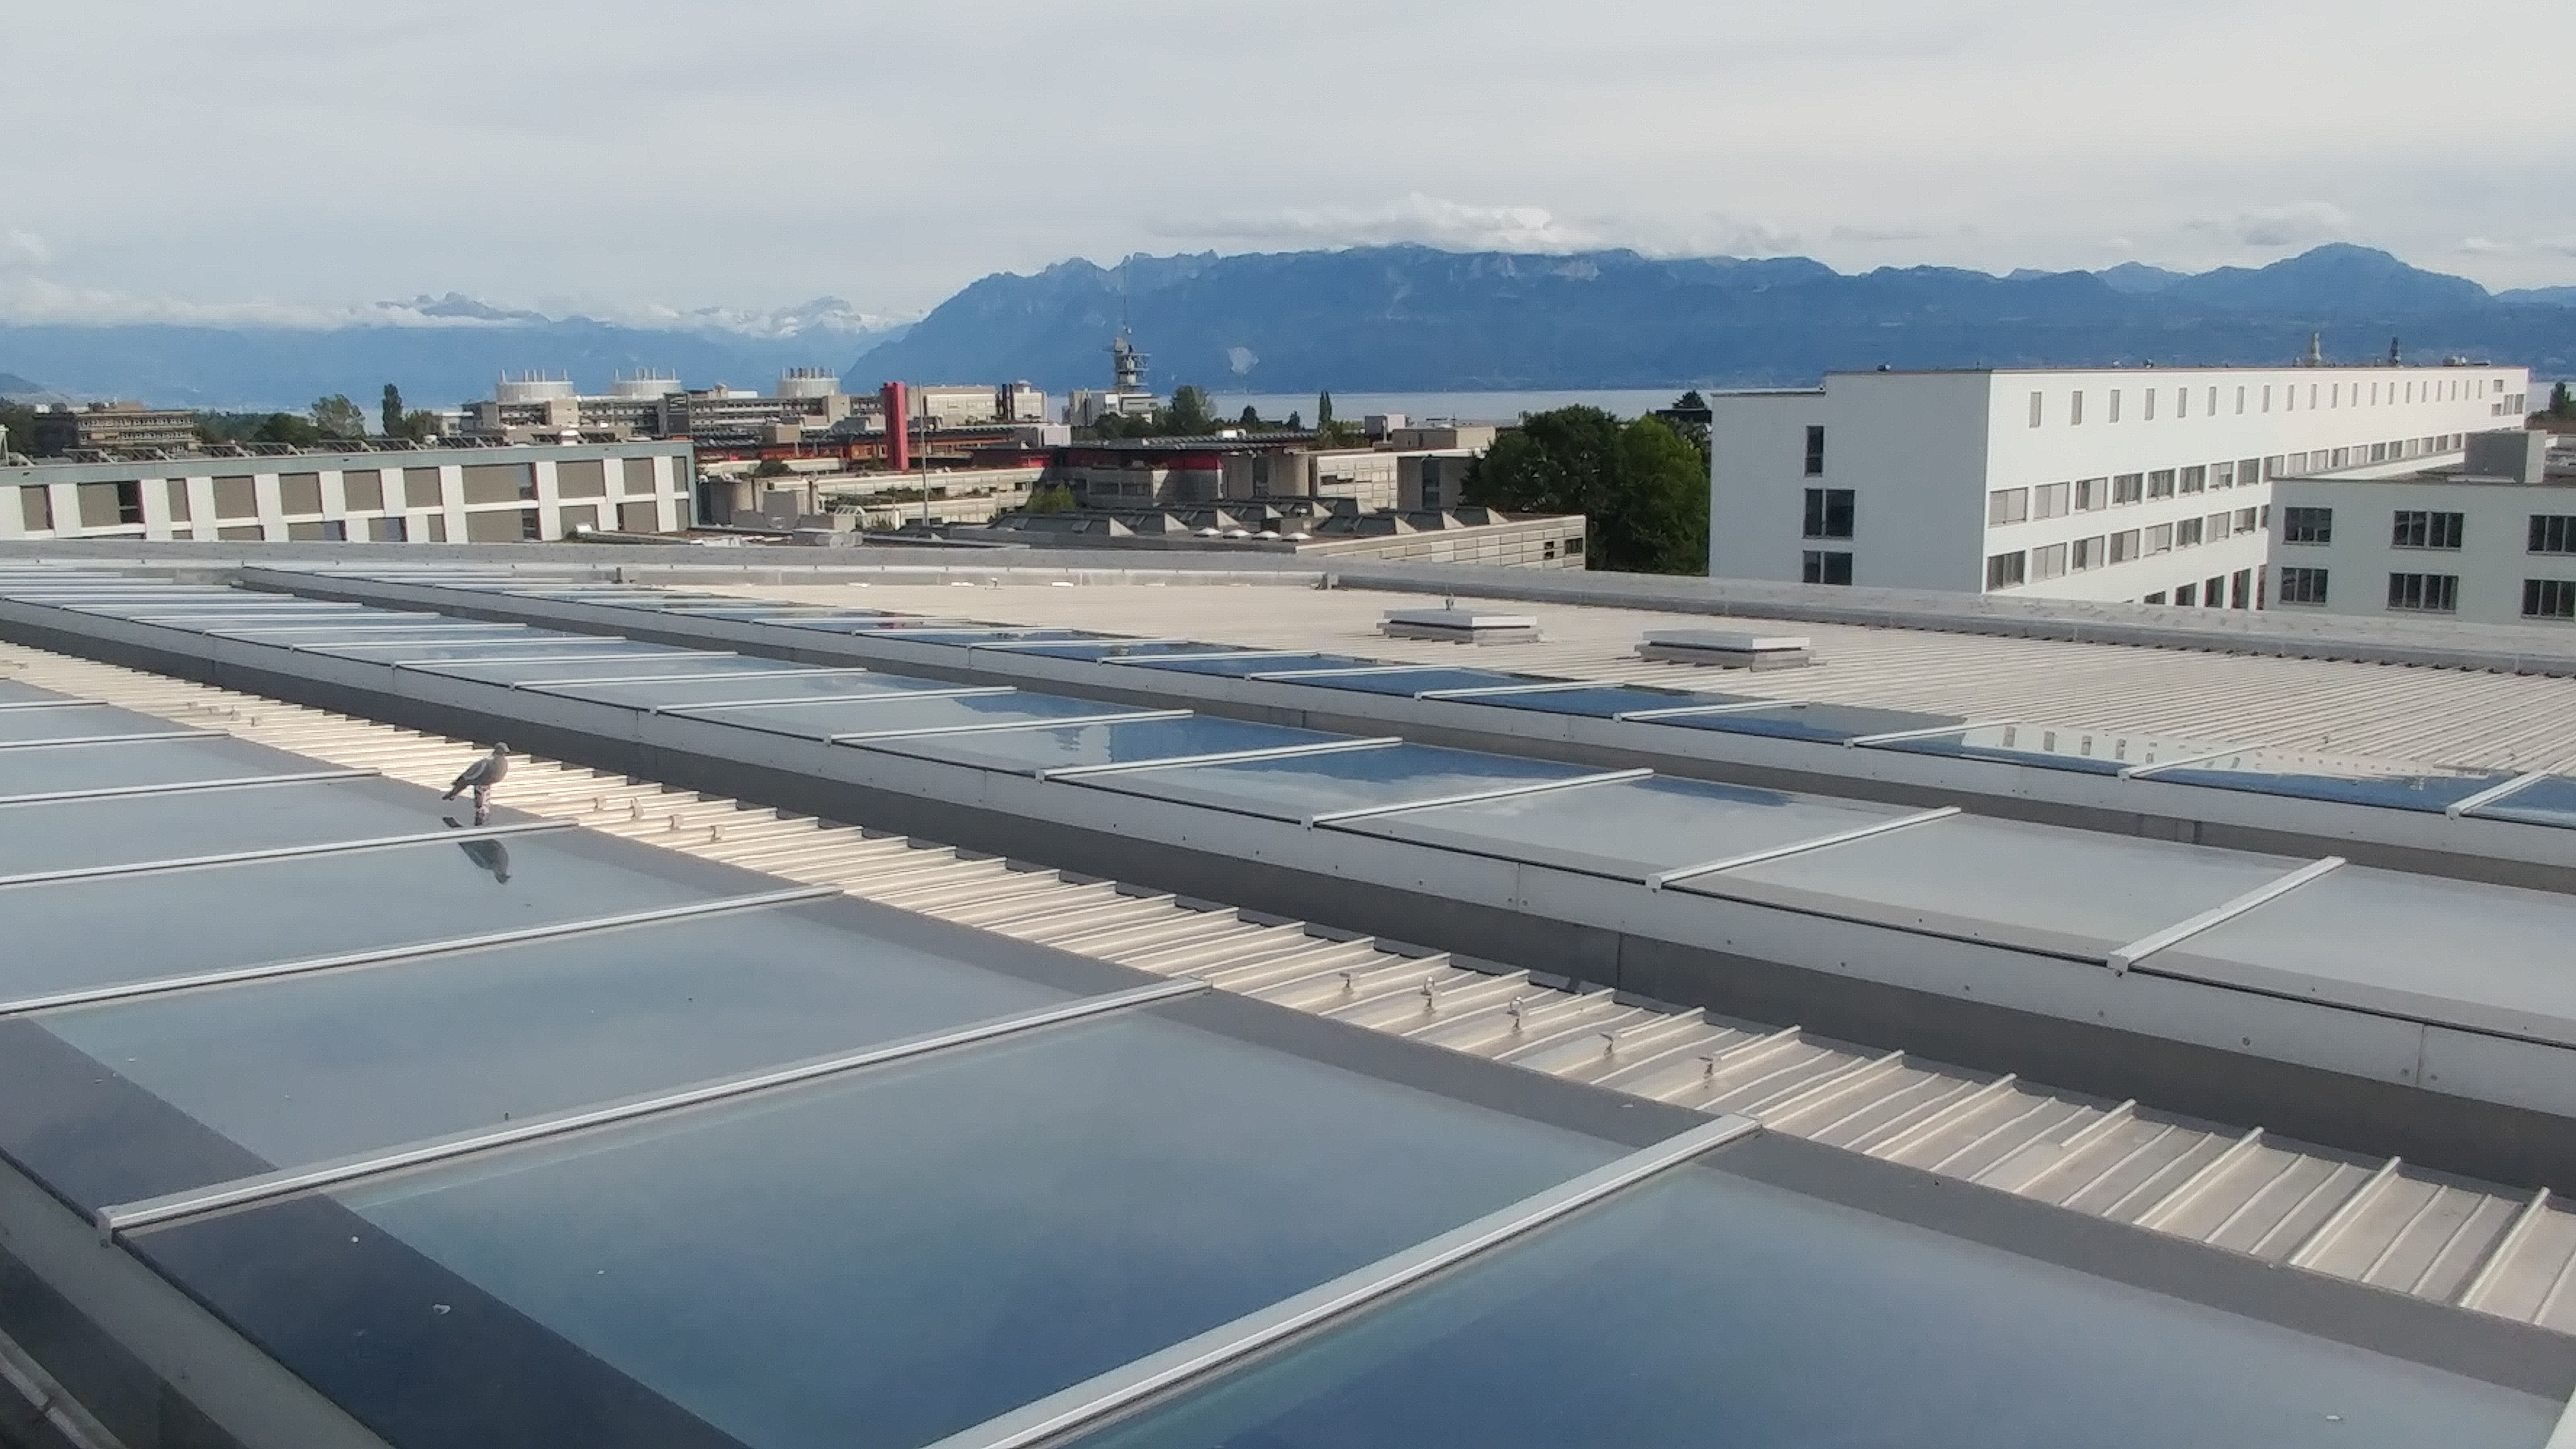Pigeon: (433, 738, 513, 821)
